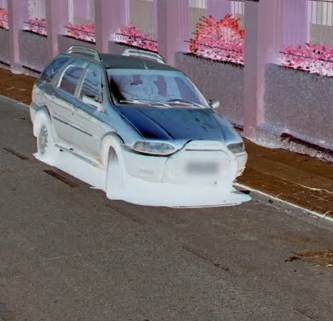car: (27, 43, 249, 206)
